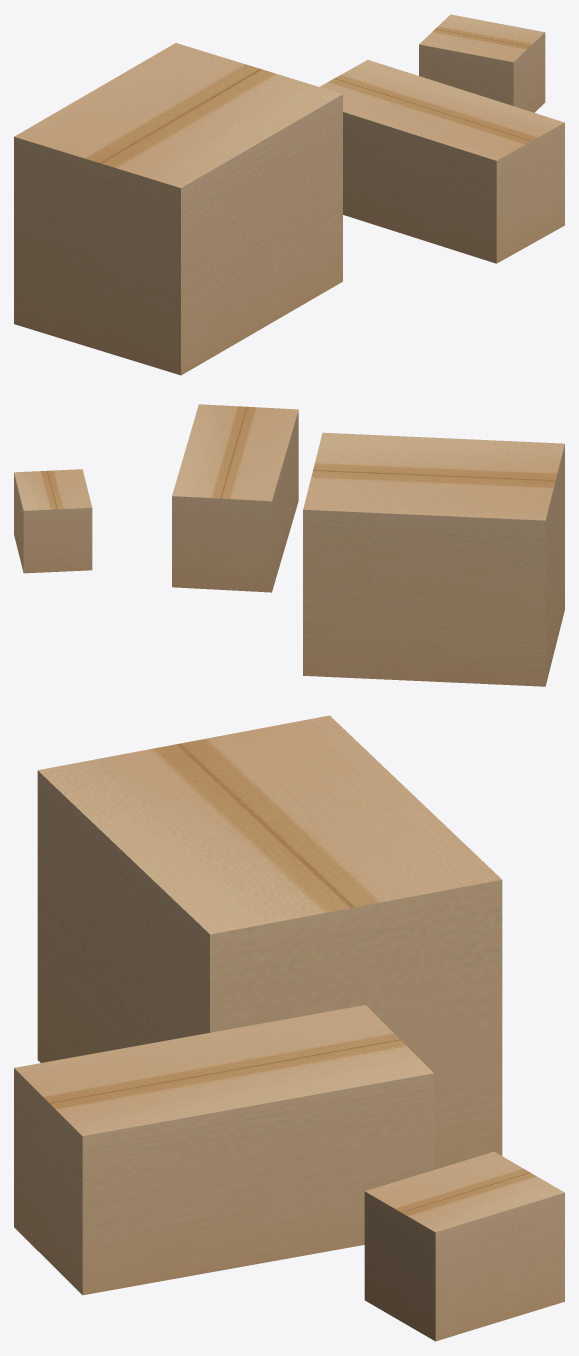
The model's file is cardboard.glb.
3 renders of one model, top to bottom at view 1: azimuth 30°, elevation 25°; view 2: azimuth 150°, elevation 25°; view 3: azimuth 270°, elevation 25°, orthographic. The views are drawn at different scales.
Visible parts, largest first — view 1: Box 1.002, Box 6, Box 3; view 2: Box 1.002, Box 6, Box 3; view 3: Box 1.002, Box 6, Box 3.
Boxes of the visible parts, bbox=[...] form: Box 1.002: bbox=[14, 43, 342, 375]; Box 6: bbox=[319, 60, 564, 263]; Box 3: bbox=[419, 14, 545, 112]; Box 1.002: bbox=[303, 432, 564, 686]; Box 6: bbox=[172, 404, 298, 592]; Box 3: bbox=[14, 469, 92, 573]; Box 1.002: bbox=[37, 715, 502, 1169]; Box 6: bbox=[14, 1005, 433, 1295]; Box 3: bbox=[364, 1151, 564, 1341].
Size of the model in its own units: 6.32 by 2 by 3.45.
Materials: 3 (3 with a texture image).
